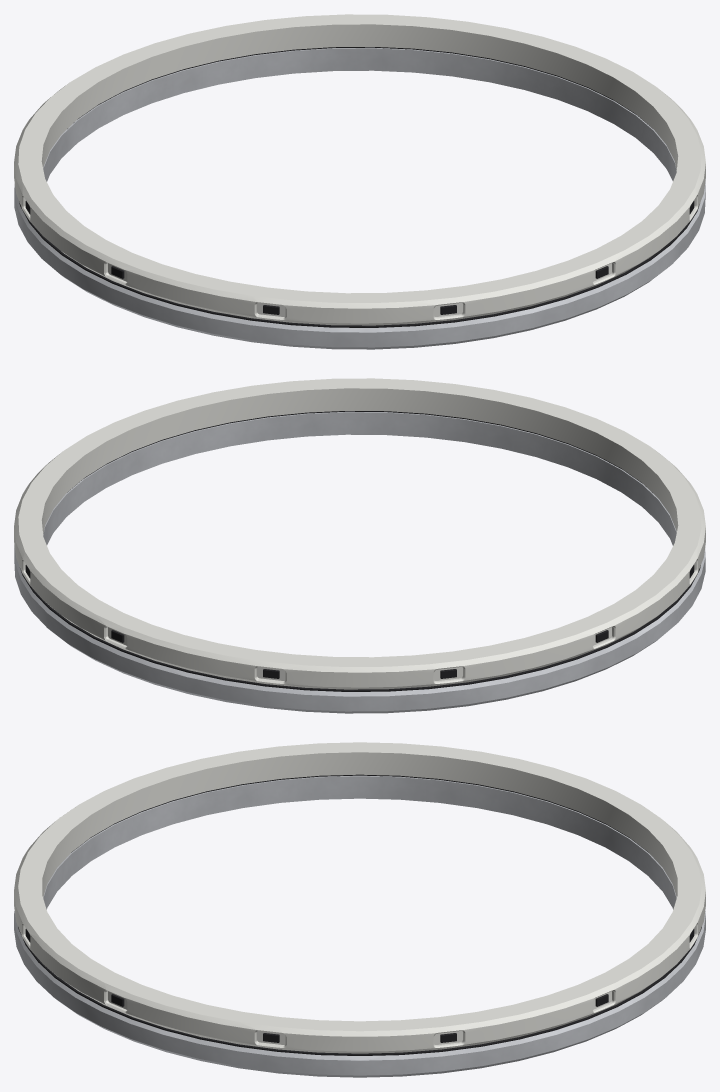
The model's file is ax_struct_06_stack_decoupler_xl.glb.
3 views of the same model, one above another, from view 1: azimuth 30°, elevation 25°; view 2: azimuth 150°, elevation 25°; view 3: azimuth 270°, elevation 25° (orthographic).
Parts seen in each view (by area): view 1: decoupler_upper_ring, decoupler_lower_ring, separation_plane, pyro_latches; view 2: decoupler_upper_ring, decoupler_lower_ring, separation_plane, pyro_latches; view 3: decoupler_upper_ring, decoupler_lower_ring, separation_plane, pyro_latches.
Boxes of the visible parts, x1,y1,x2,y2 form: decoupler_upper_ring: [14, 14, 705, 325]; decoupler_lower_ring: [14, 47, 705, 349]; separation_plane: [19, 47, 699, 327]; pyro_latches: [25, 201, 694, 314]; decoupler_upper_ring: [14, 378, 705, 689]; decoupler_lower_ring: [14, 411, 705, 713]; separation_plane: [20, 411, 700, 691]; pyro_latches: [25, 565, 694, 678]; decoupler_upper_ring: [14, 742, 705, 1053]; decoupler_lower_ring: [14, 775, 705, 1077]; separation_plane: [18, 774, 701, 1055]; pyro_latches: [25, 929, 694, 1042].
Size of the model in its own units: 5 by 0.37 by 5.
Materials: 3 (1 with a texture image).
